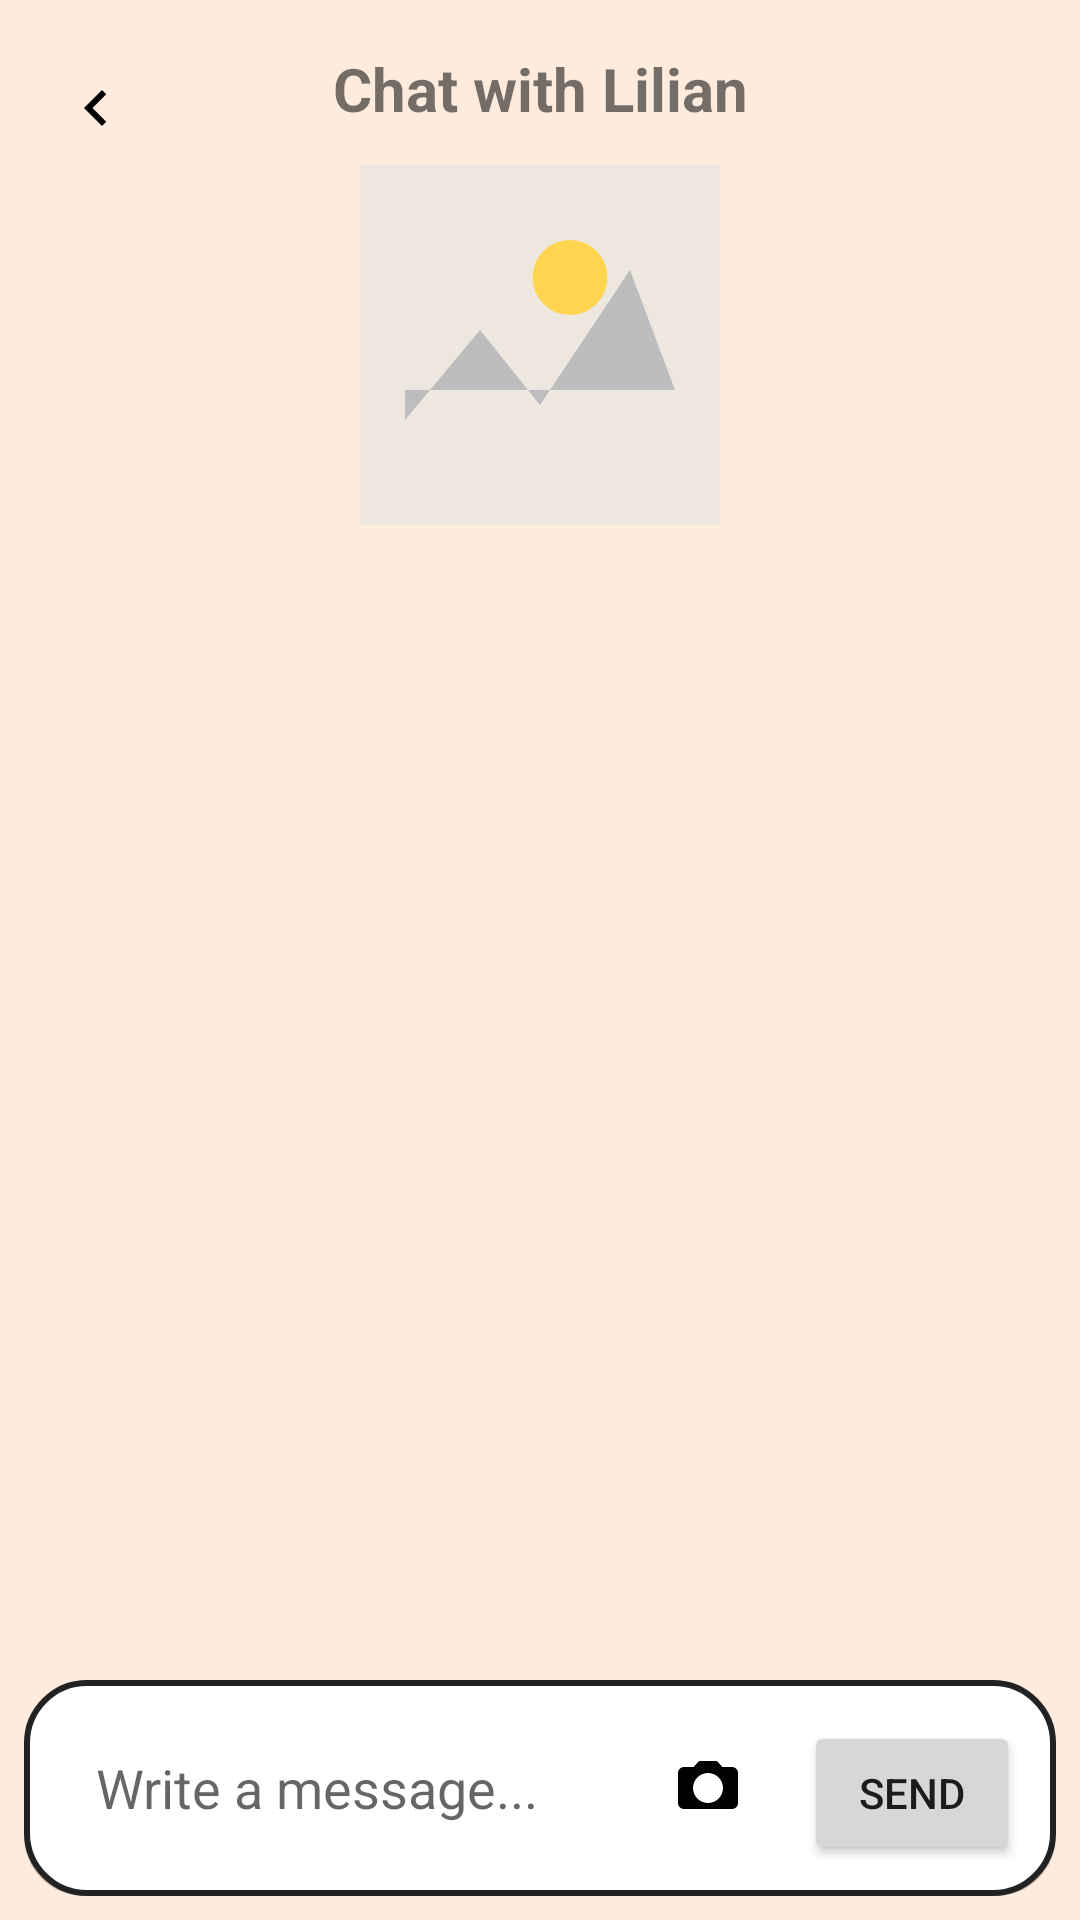

Screen size 1080x1920. Icon name, then its center in pixels as point (x, y):
back arrow: point (95, 108)
Camera: point (708, 1785)
